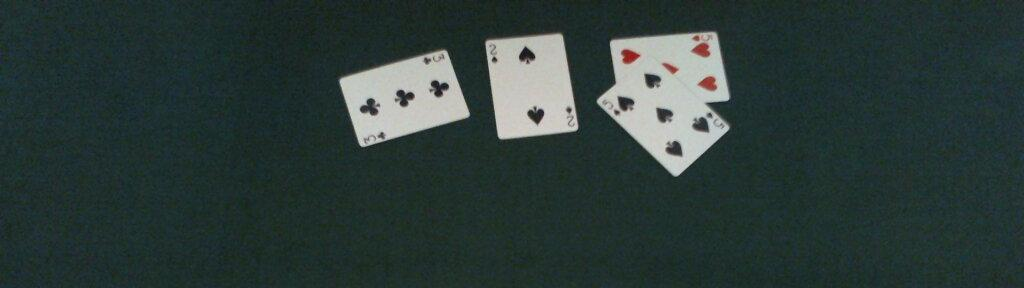five: (595, 56, 730, 176), (608, 32, 729, 103)
three: (338, 50, 471, 147)
two: (483, 32, 581, 139)
